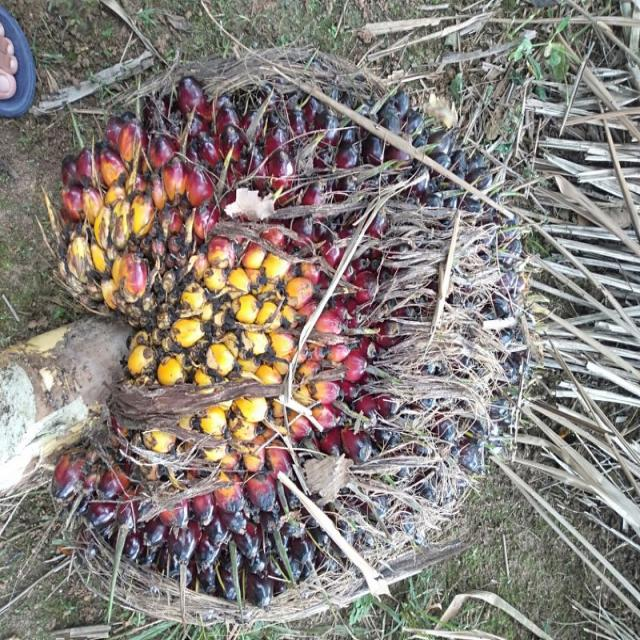fraksi 00: (23, 23, 541, 621)
